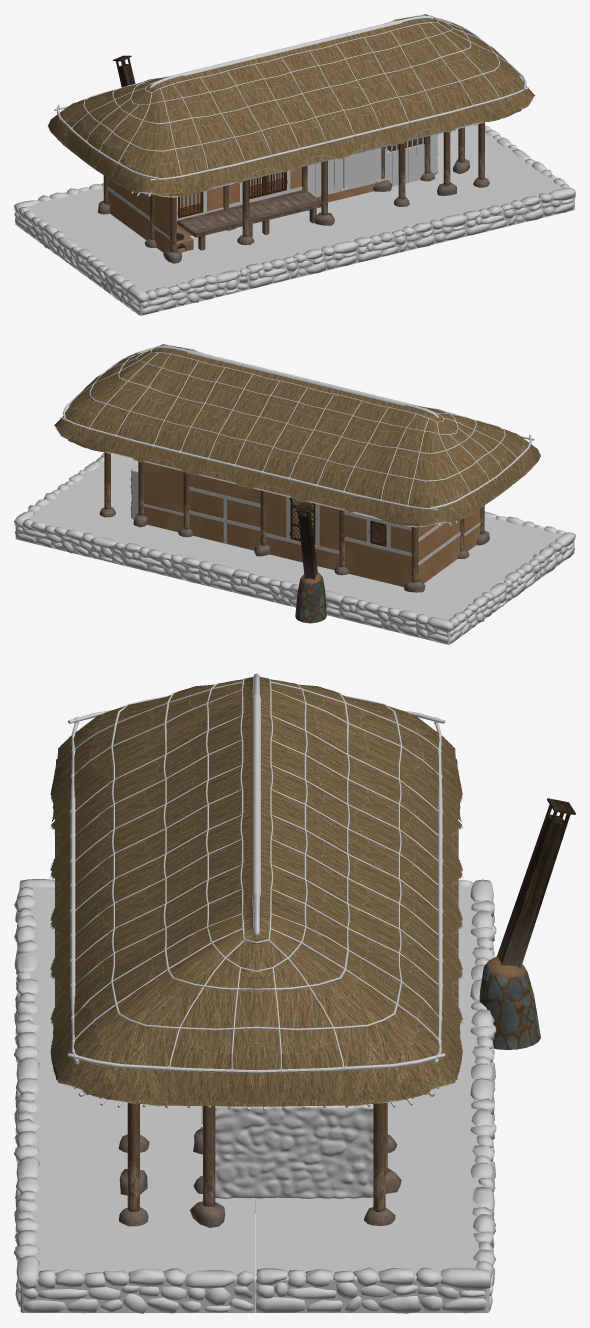
File: Wooden_Bench_House.fbx
3 views of the same model, one above another, from view 1: azimuth 30°, elevation 25°; view 2: azimuth 150°, elevation 25°; view 3: azimuth 270°, elevation 25° (orthographic). The views are drawn at different scales.
Parts seen in each view (by area): view 1: SM_Roof01a.003, SM_Roof01a, SM_Roof04a, SM_Roof04a.002, SM_Roof04a.003, SM_Roof04a.001, SM_Ground01a008, SM_Ground01a001, SM_Ground01a003, SM_Ground01a009, SM_Ground02a005, SM_Ground01a006 (+28 smaller); view 2: SM_Roof01a.002, SM_Roof01a.001, SM_Roof04a, SM_Roof04a.003, SM_Roof04a.001, SM_Roof04a.002, SM_Ground01a006, SM_Ground01a004, SM_Ground02a004, SM_Wall02a, SM_Ground01a008, SM_Roof01a.003 (+25 smaller); view 3: SM_Roof01a.001, SM_Roof01a, SM_Roof04a.002, SM_Roof04a, SM_Roof04a.001, SM_Roof04a.003, SM_Ground01a001, SM_Ground01a004, SM_Wall01b, SM_Ground01a003, SM_Ground02a003, SM_Ground02a002 (+17 smaller).
Part boxes in pixels (x1,y1,x2,y2): SM_Roof01a.003: (89, 73, 237, 197); SM_Roof01a: (401, 16, 535, 129); SM_Roof04a: (333, 20, 455, 143); SM_Roof04a.002: (279, 33, 400, 156); SM_Roof04a.003: (170, 60, 291, 183); SM_Roof04a.001: (224, 46, 346, 170); SM_Ground01a008: (77, 235, 248, 315); SM_Ground01a001: (417, 146, 574, 236); SM_Ground01a003: (316, 181, 466, 262); SM_Ground01a009: (205, 210, 357, 289); SM_Ground02a005: (76, 249, 248, 314); SM_Ground01a006: (15, 184, 139, 269); SM_Roof01a.002: (351, 403, 499, 527); SM_Roof01a.001: (54, 346, 187, 459); SM_Roof04a: (133, 350, 255, 473); SM_Roof04a.003: (297, 390, 418, 513); SM_Roof04a.001: (242, 376, 364, 500); SM_Roof04a.002: (188, 363, 309, 486); SM_Ground01a006: (341, 565, 511, 644); SM_Ground01a004: (15, 476, 151, 565); SM_Ground02a004: (340, 579, 512, 643); SM_Wall02a: (189, 473, 260, 550); SM_Ground01a008: (450, 516, 574, 598); SM_Roof01a.003: (411, 404, 541, 494); SM_Roof01a.001: (256, 893, 462, 1110); SM_Roof01a: (50, 893, 256, 1110); SM_Roof04a.002: (50, 793, 462, 973); SM_Roof04a: (50, 843, 462, 1023); SM_Roof04a.001: (50, 743, 462, 923); SM_Roof04a.003: (50, 694, 463, 874); SM_Ground01a001: (20, 1178, 254, 1312); SM_Ground01a004: (255, 1178, 489, 1312); SM_Wall01b: (215, 1104, 373, 1198); SM_Ground01a003: (20, 1079, 255, 1213); SM_Ground02a003: (255, 1177, 495, 1313); SM_Ground02a002: (14, 1177, 255, 1313).
Size of the model in its own units: 1217 by 458 by 719.
